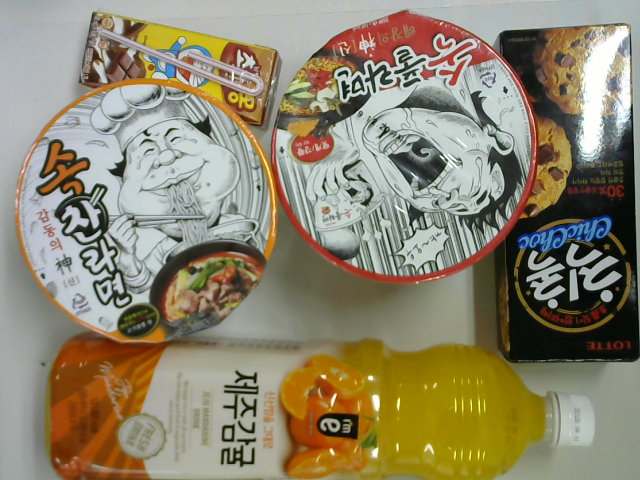Chicchok_Original_2400: (495, 20, 640, 365)
Choco_E_Mong: (77, 9, 285, 130)
Hejangchan: (15, 78, 278, 347)
Hejangpul: (267, 11, 539, 285)
Jeju_Tangerine_1.5L: (47, 330, 596, 480)
